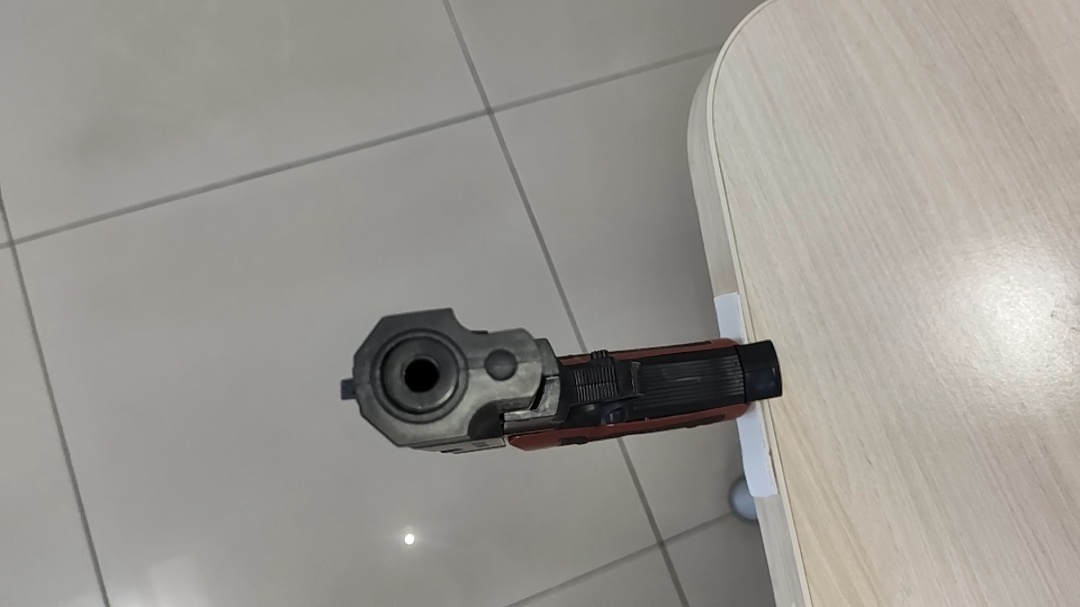gun: (341, 307, 783, 454)
